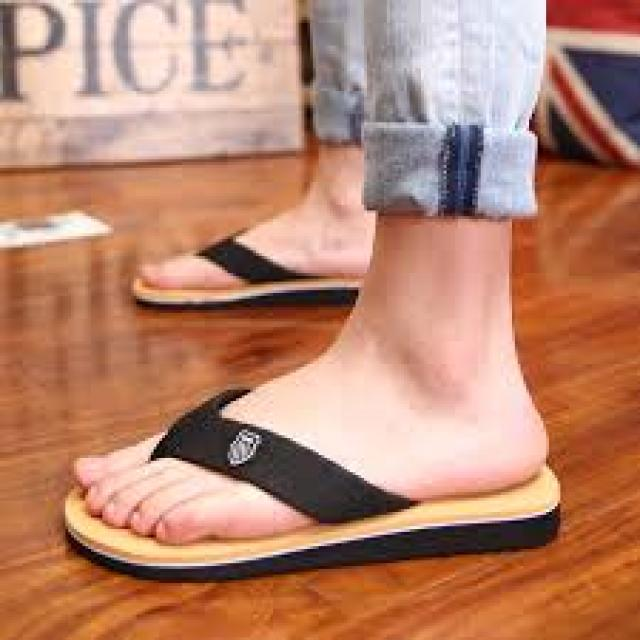Sandals: (61, 373, 562, 556)
